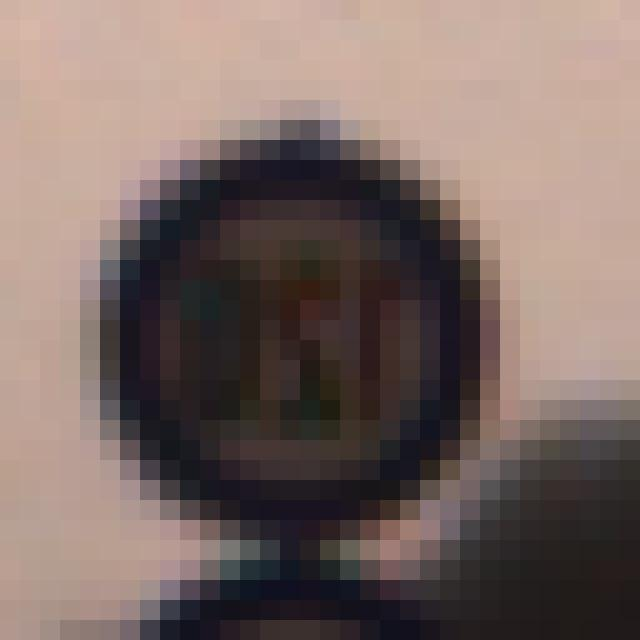SPEED LIMIT 120: (99, 117, 511, 548)
